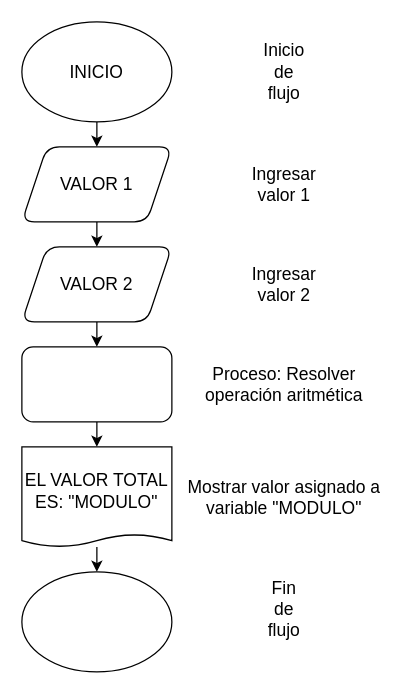
Image size: 419x694. Some labels were removed from this diagram. The shapes that lost their labels are listed below. From the top down, each one's centre as x and y in pixels, then its label:
the point at 96,384: MODULO= VALOR 1 % VALOR 2
the point at 96,621: FIN
